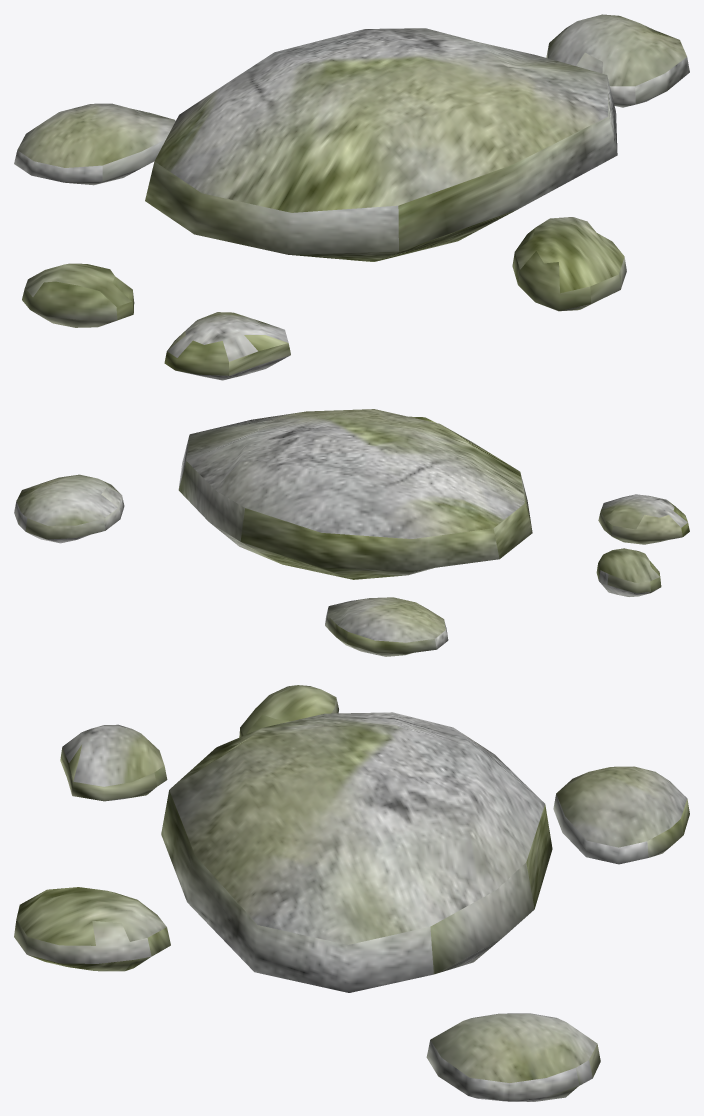
Rendered from Piedra_003_Finished.fbx.
3 renders of one model, top to bottom at view 1: azimuth 30°, elevation 25°; view 2: azimuth 150°, elevation 25°; view 3: azimuth 270°, elevation 25°, orthographic. The views are drawn at different scales.
Visible parts, largest first — view 1: Cube.001; view 2: Cube.001; view 3: Cube.001.
Boxes of the visible parts, bbox=[...] form: Cube.001: bbox=[14, 14, 689, 380]; Cube.001: bbox=[14, 409, 689, 656]; Cube.001: bbox=[14, 685, 689, 1101].
Size of the model in its own units: 604 by 122 by 433.
1 material, 1 textured.
